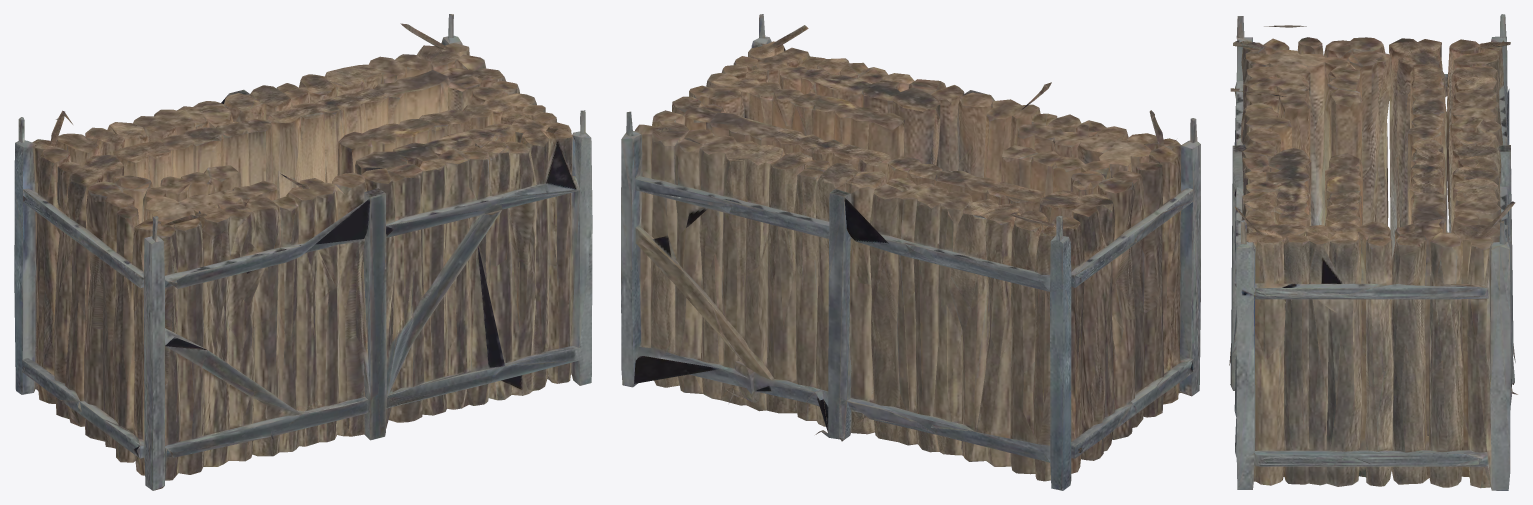
Rendered from barricade_iron.glb.
3 views of the same model, side by side, from view 1: azimuth 30°, elevation 25°; view 2: azimuth 150°, elevation 25°; view 3: azimuth 270°, elevation 25° (orthographic).
Size of the model in its own units: 1.9 by 1.1 by 1.07.
1 material, 1 textured.
